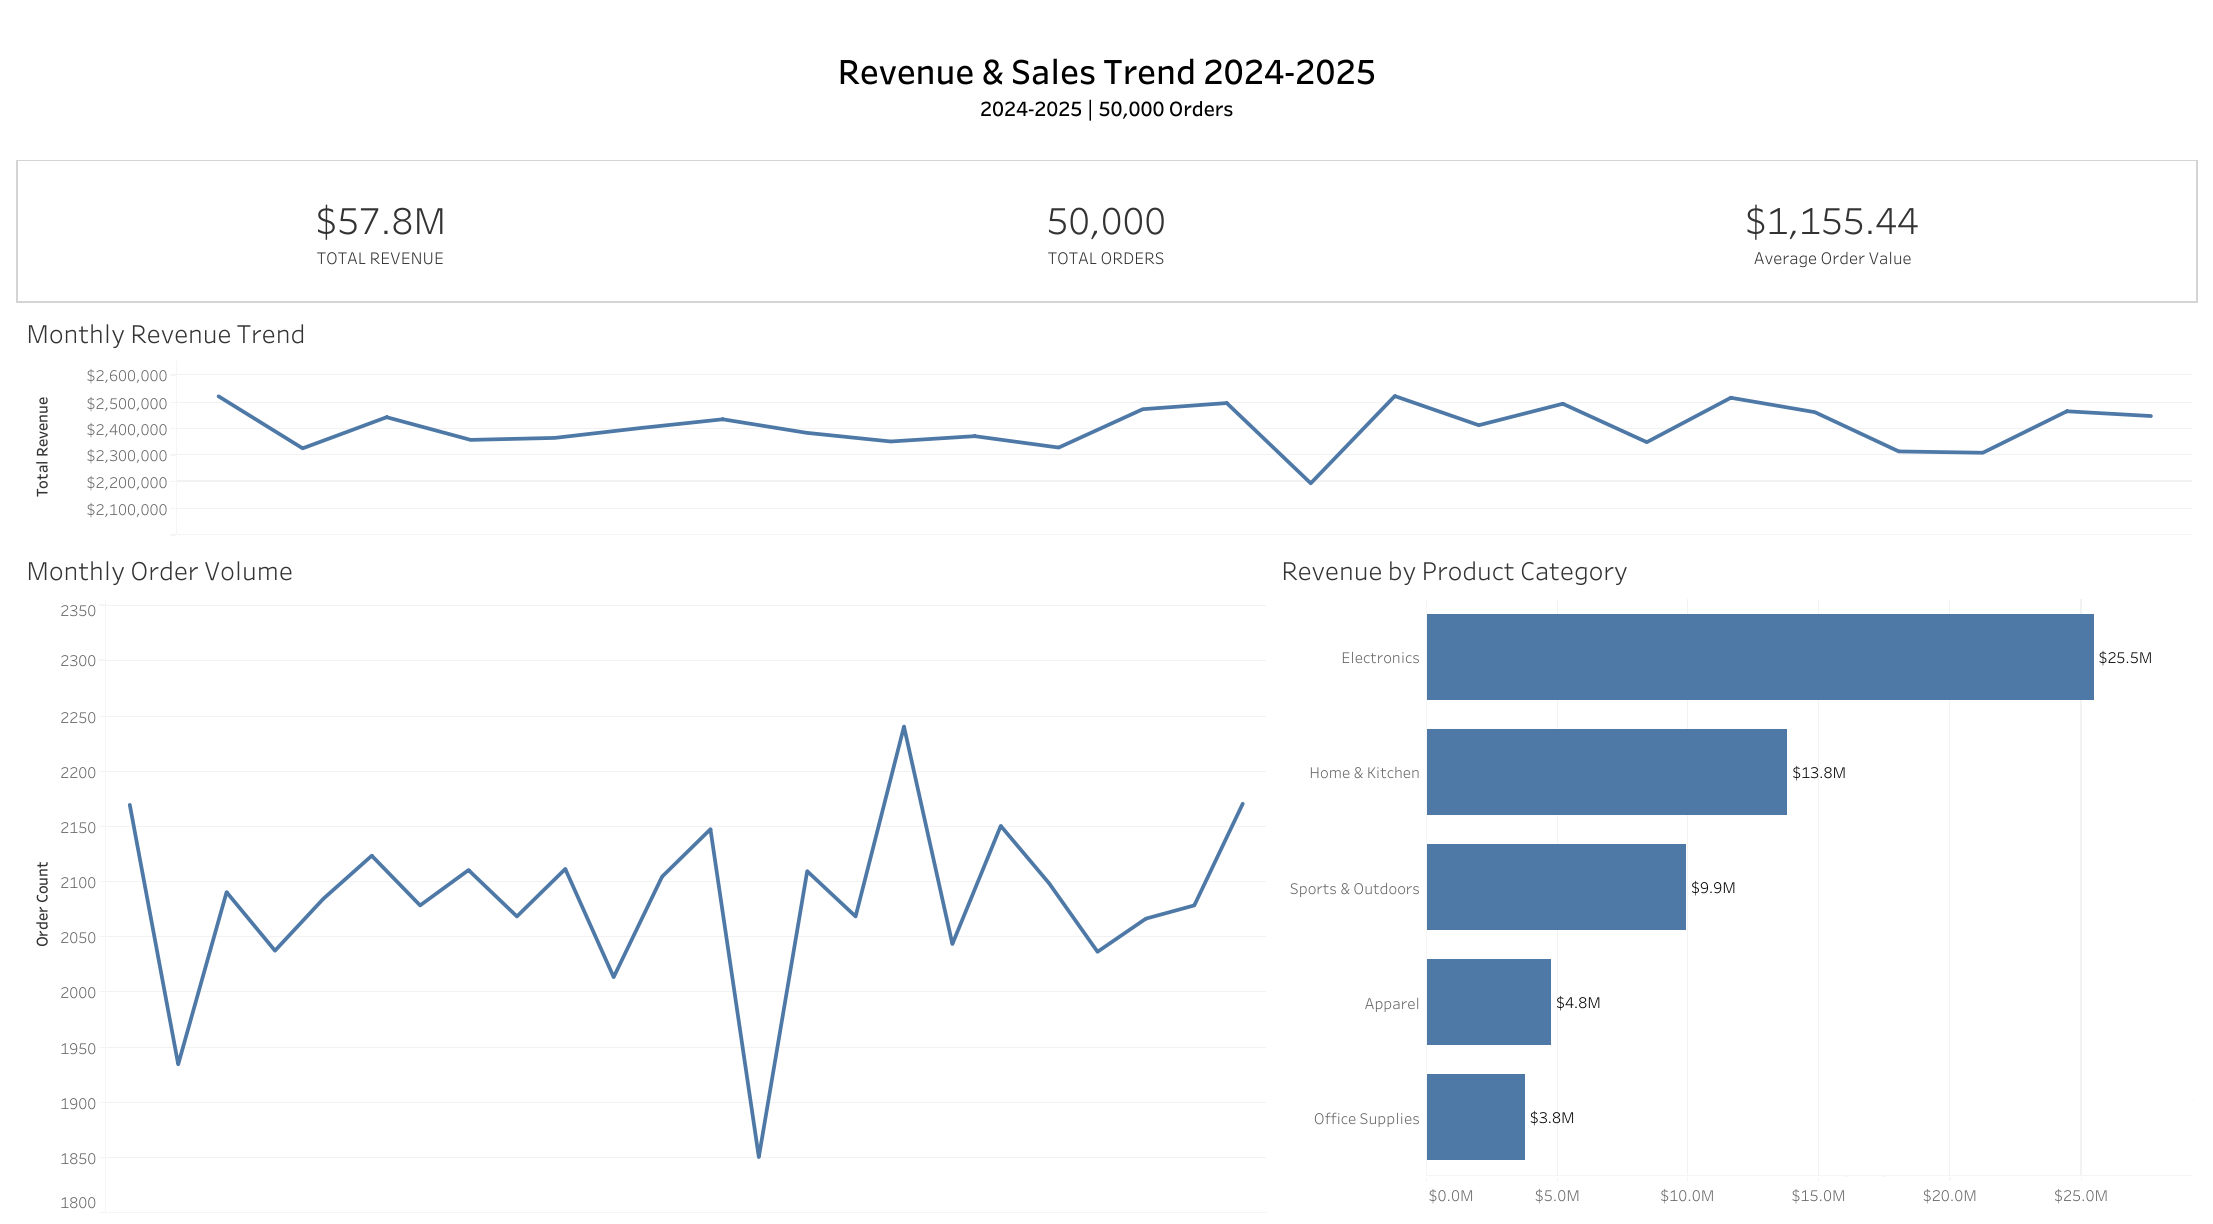

This screenshot's page, from the dashboard's own definition file:
{"tool":"tableau","page":{"name":"Revenue Trend","canvas":[1000,1000],"units":"permille","ordinal":3},"visuals":[{"type":"text","box":[7.6,5.9,984.8,89.9]},{"type":"worksheet","title":"D4 - KPI Total Revenue","mark":"Automatic","box":[8.6,96.5,327.9,82.5]},{"type":"worksheet","title":"D4 - Total Orders","mark":"Automatic","box":[336.5,96.5,327.9,82.5]},{"type":"worksheet","title":"D4 - KPI Average Order Value","mark":"Automatic","box":[664.5,96.5,327,82.5]},{"type":"worksheet","title":"Monthly Revenue Trend","mark":"Line","rows":["total_revenue"],"cols":["order_month"],"box":[7.6,179.8,984.8,414.9]},{"type":"worksheet","title":"Monthly Order Volumn","mark":"Line","rows":["order_count"],"cols":["order_month"],"box":[7.6,594.7,492.4,399.4]},{"type":"worksheet","title":"D4 - Revenue by Category","mark":"Bar","rows":["category"],"cols":["total_revenue"],"box":[500,594.7,492.4,399.4]}]}

Visuals, with their boxes on the dashboard's canvas, which has no fixed pixel size, in thousandths of its width and height (x1, y1, x2, y2). These are canvas units, not pixel positions in the 2213x1224 screenshot, which may show the page scaled, cropped or inside an application window:
text: detection(8, 6, 992, 96)
"D4 - KPI Total Revenue" worksheet: detection(9, 96, 336, 179)
"D4 - Total Orders" worksheet: detection(336, 96, 664, 179)
"D4 - KPI Average Order Value" worksheet: detection(664, 96, 992, 179)
"Monthly Revenue Trend" worksheet (Line marks): detection(8, 180, 992, 595)
"Monthly Order Volumn" worksheet (Line marks): detection(8, 595, 500, 994)
"D4 - Revenue by Category" worksheet (Bar marks): detection(500, 595, 992, 994)
